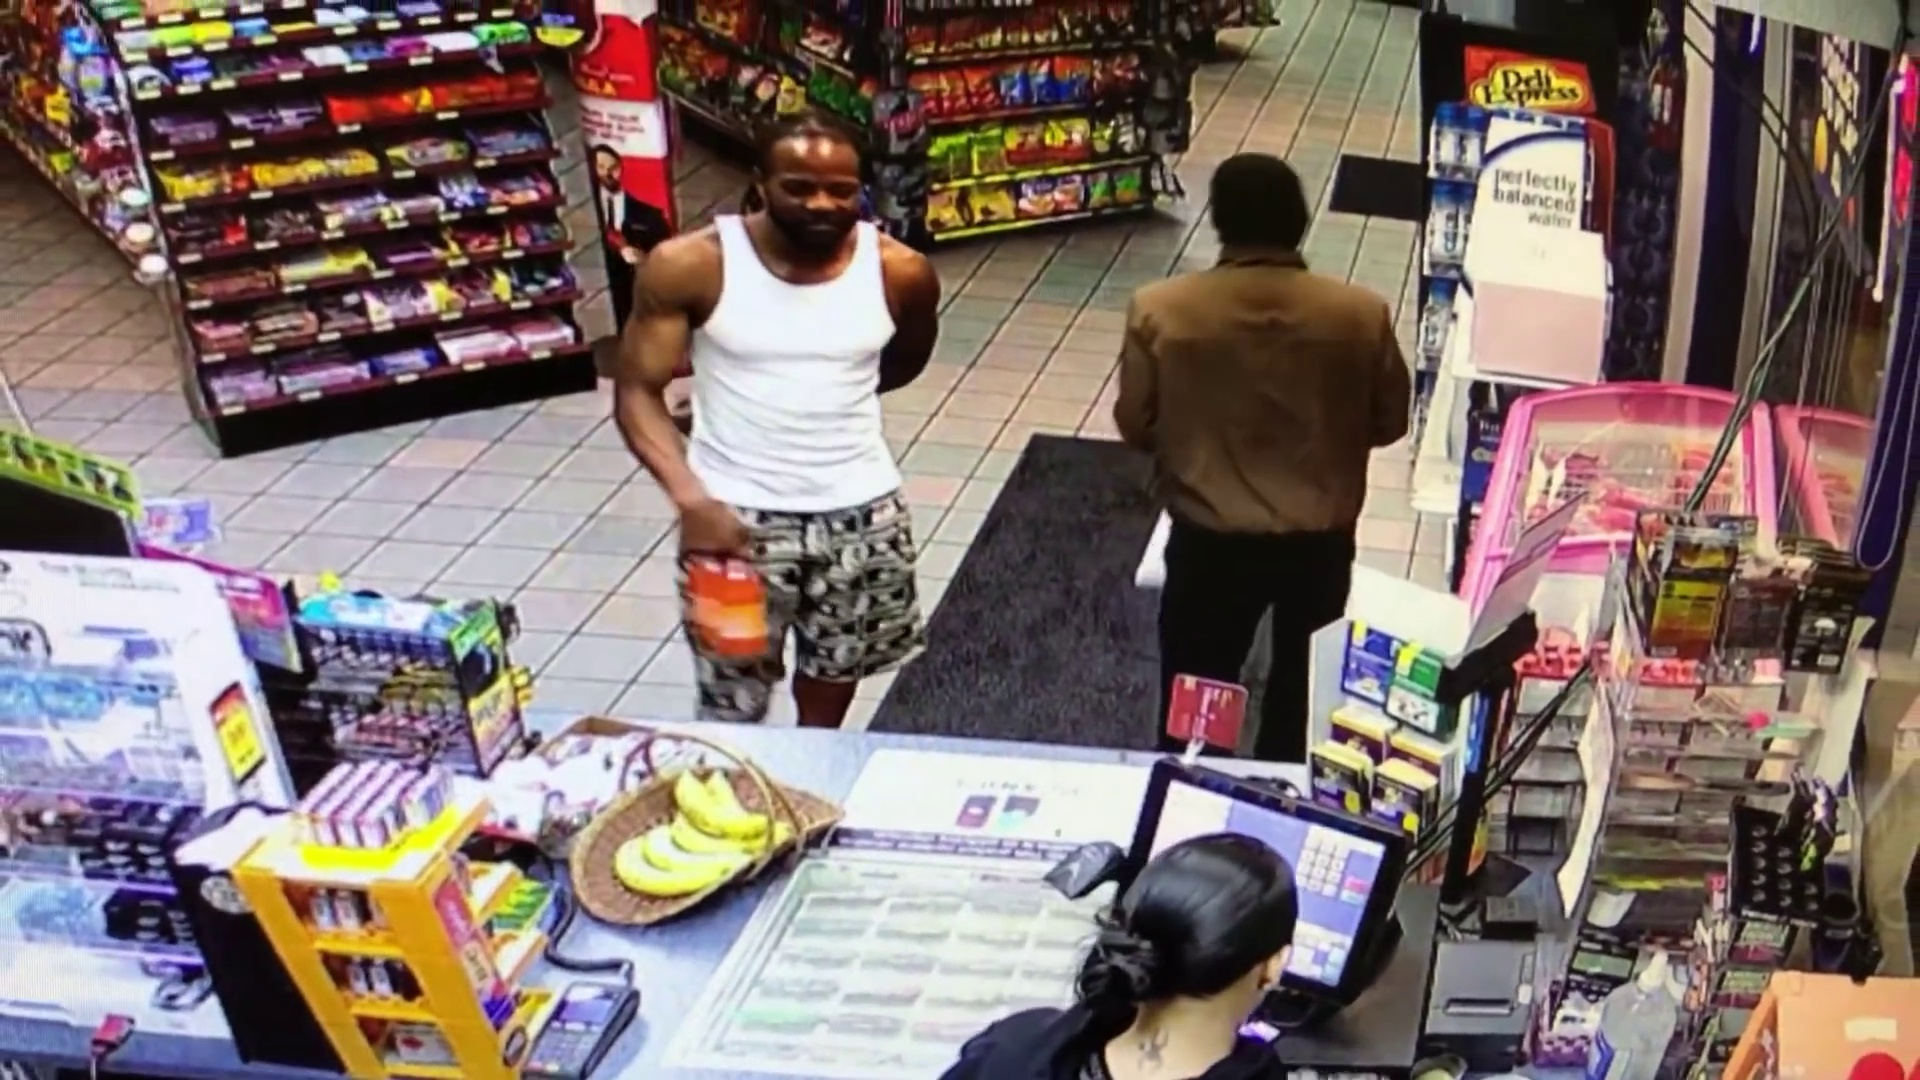face: (767, 147, 864, 248)
